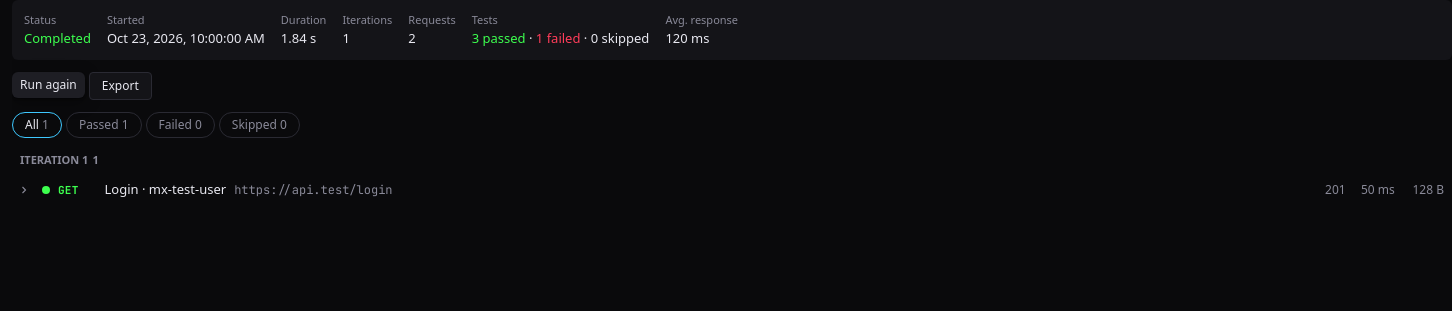
Scenario: RunResults › shows a row’s alias, URL, status, time and size, and expands it to its tests, script errors and console
Expected: the list item that starts with "GET" shows "Login · mx-test-user", [104,180,226,200]
Expected: the list item that starts with "GET" shows "https://api.test/login", [234,182,392,198]
What coordinates should you click on to do the following:
click the button named "Details of Login · mx-test-user"
I would click on:
 (24, 190)
Its box is [14,180,34,200].
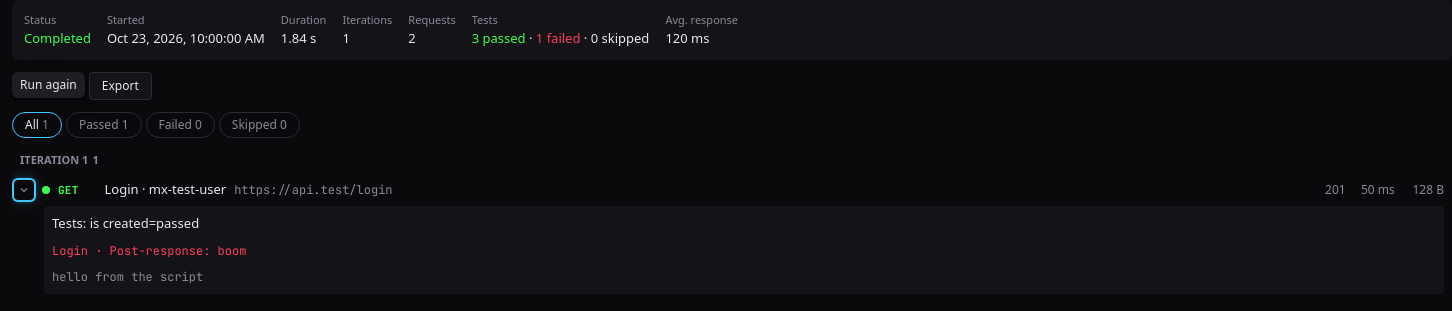
Result: the button named "Details of Login · mx-test-user" is expanded at [14,180,34,200]
Result: the text "Tests: is created=passed" is shown at [52,214,199,232]
Result: the list item "Login · Post-response: boom" is shown at [52,242,246,258]
